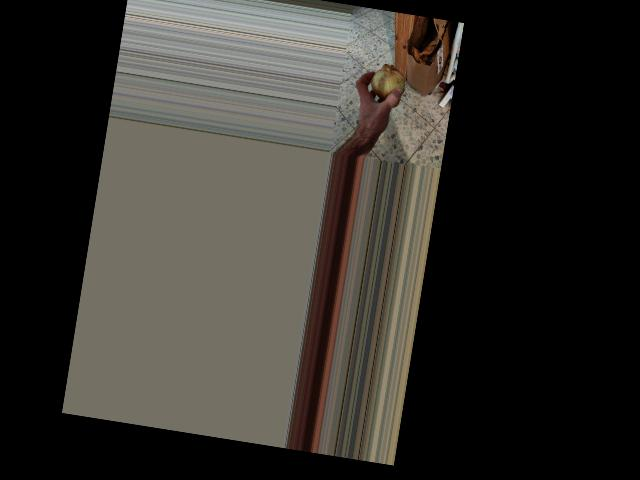onion: (363, 60, 411, 112)
